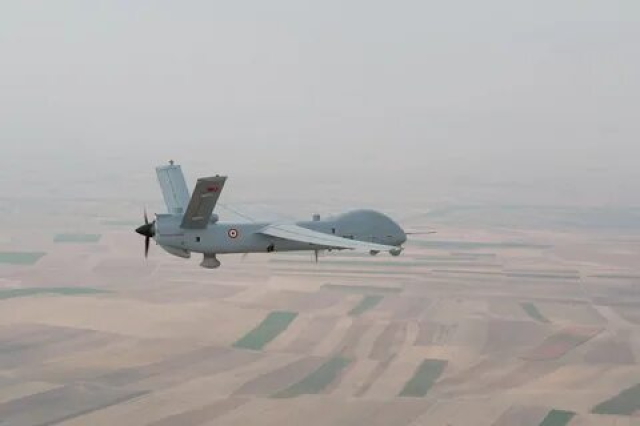military drone: (134, 159, 437, 269)
